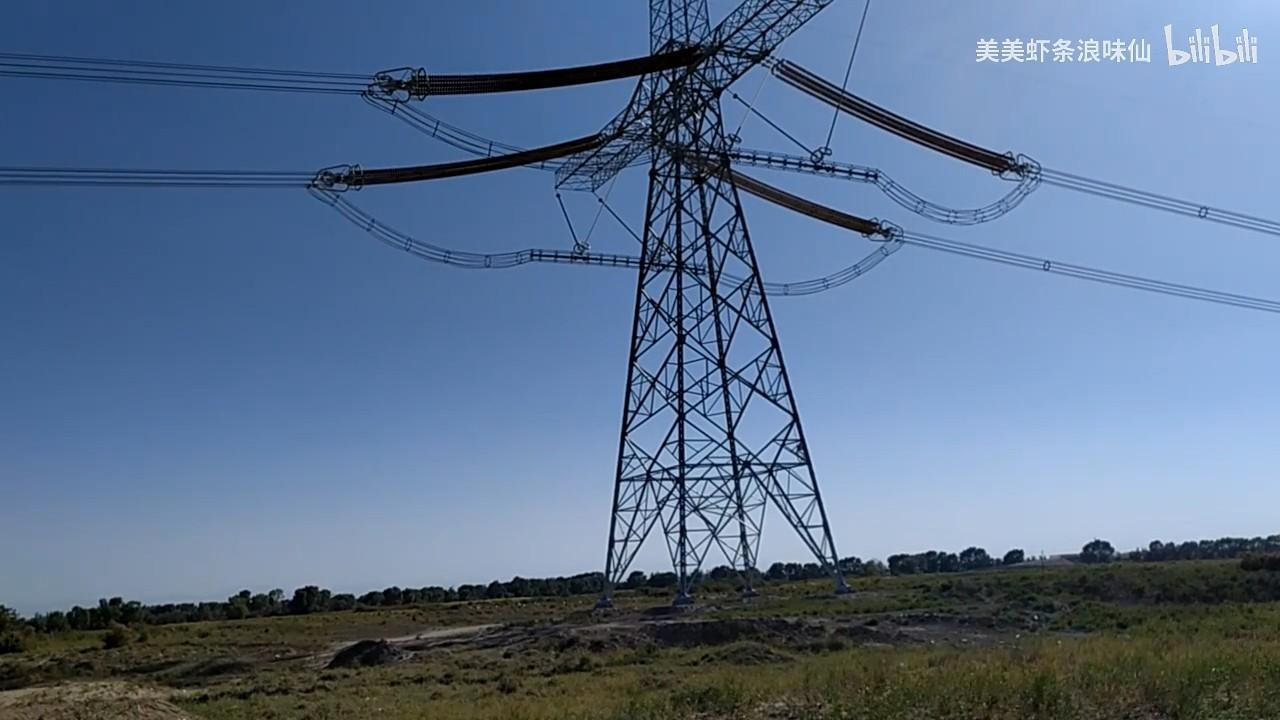power_tower: (314, 0, 1027, 588)
